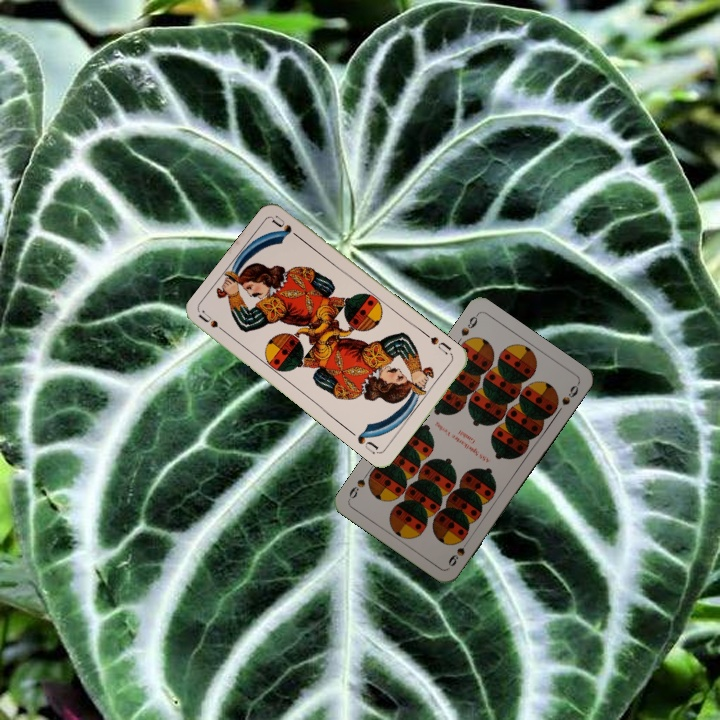S9: (444, 535, 473, 569), (457, 310, 481, 339)
SU: (195, 307, 232, 338), (421, 329, 453, 357)
